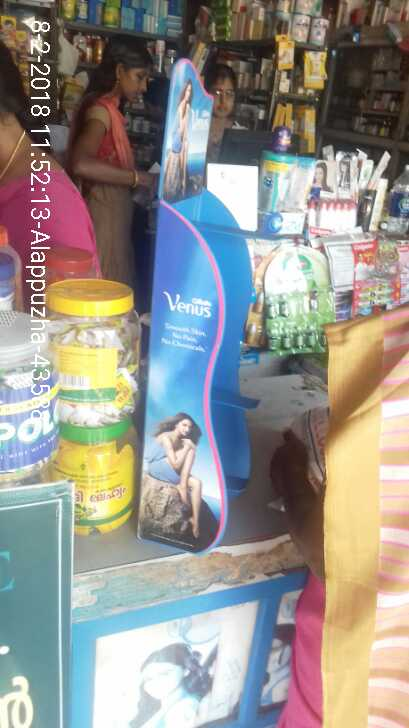reject: (118, 203, 279, 355)
